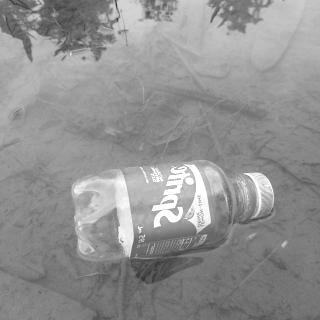bottle: (68, 157, 276, 266)
